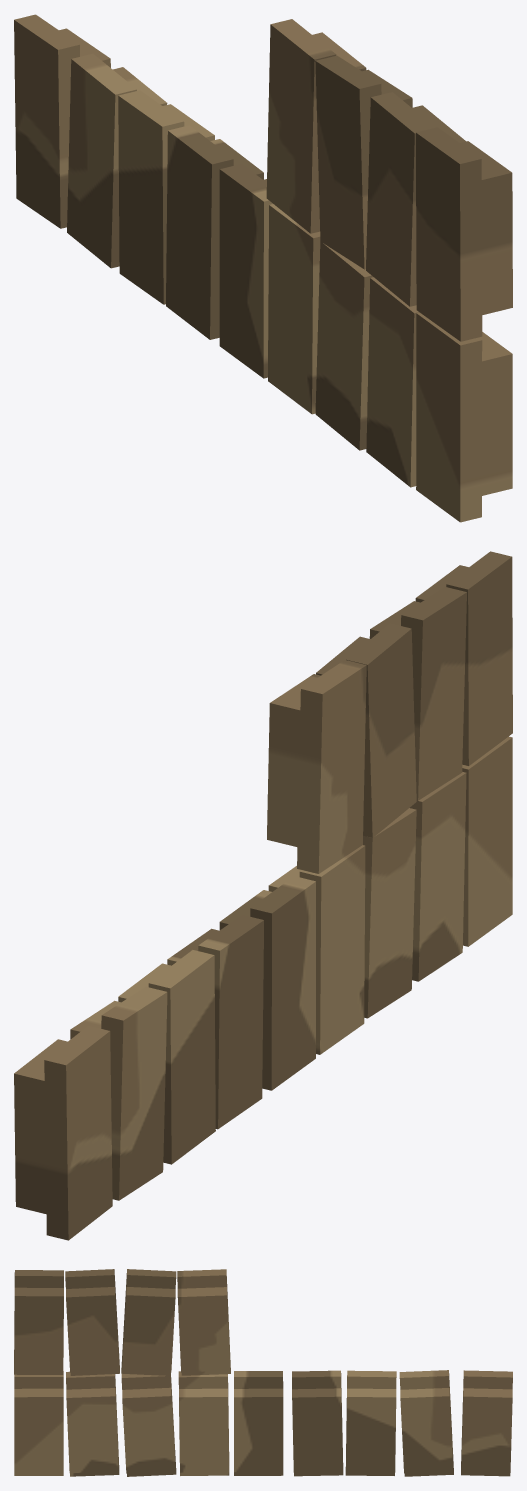
The model's file is SM_Veh_Attach_Tank_Armour_07.fbx.
3 renders of one model, top to bottom at view 1: azimuth 30°, elevation 25°; view 2: azimuth 150°, elevation 25°; view 3: azimuth 270°, elevation 25°, orthographic. The views are drawn at different scales.
Parts seen in each view (by area): view 1: SM_Veh_Attach_Tank_Armour_07; view 2: SM_Veh_Attach_Tank_Armour_07; view 3: SM_Veh_Attach_Tank_Armour_07.
Boxes of the visible parts, bbox=[...] form: SM_Veh_Attach_Tank_Armour_07: bbox=[14, 14, 512, 522]; SM_Veh_Attach_Tank_Armour_07: bbox=[14, 551, 512, 1240]; SM_Veh_Attach_Tank_Armour_07: bbox=[14, 1269, 512, 1476].
Size of the model in its own units: 11.1 by 73.26 by 164.
